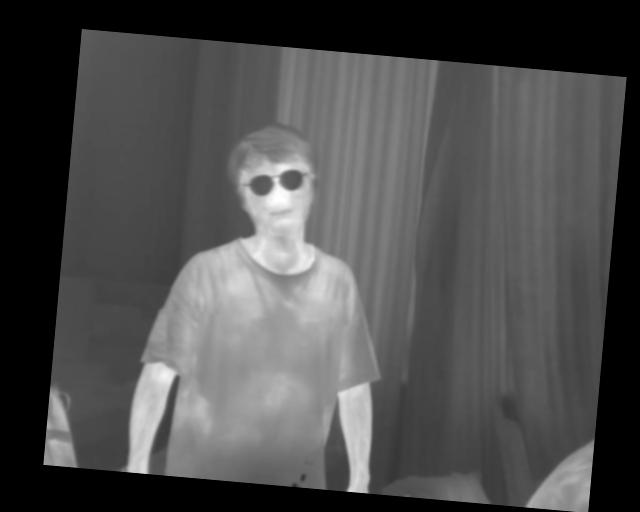face: (220, 117, 323, 241)
